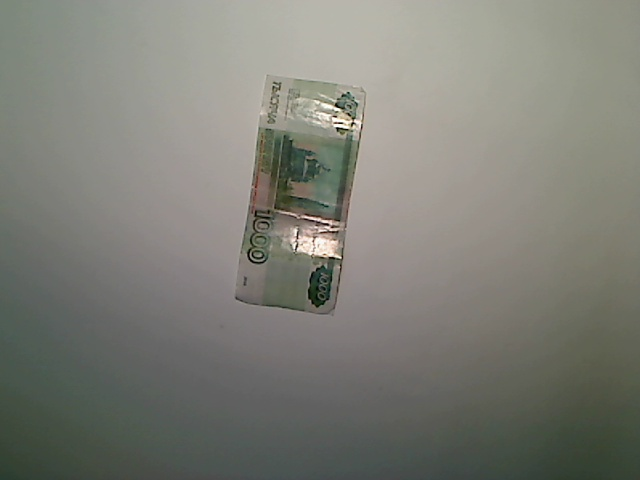banknotes: (231, 73, 372, 319)
